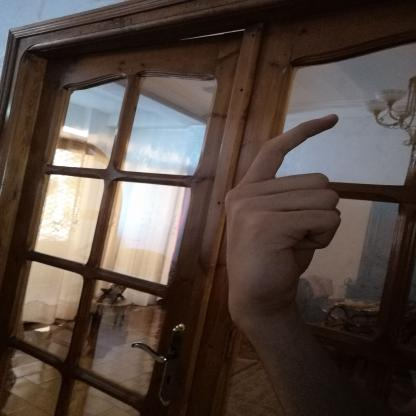RAA: (212, 101, 356, 327)
